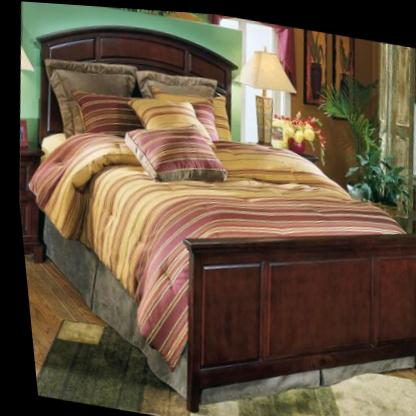Bed: (0, 6, 416, 416)
